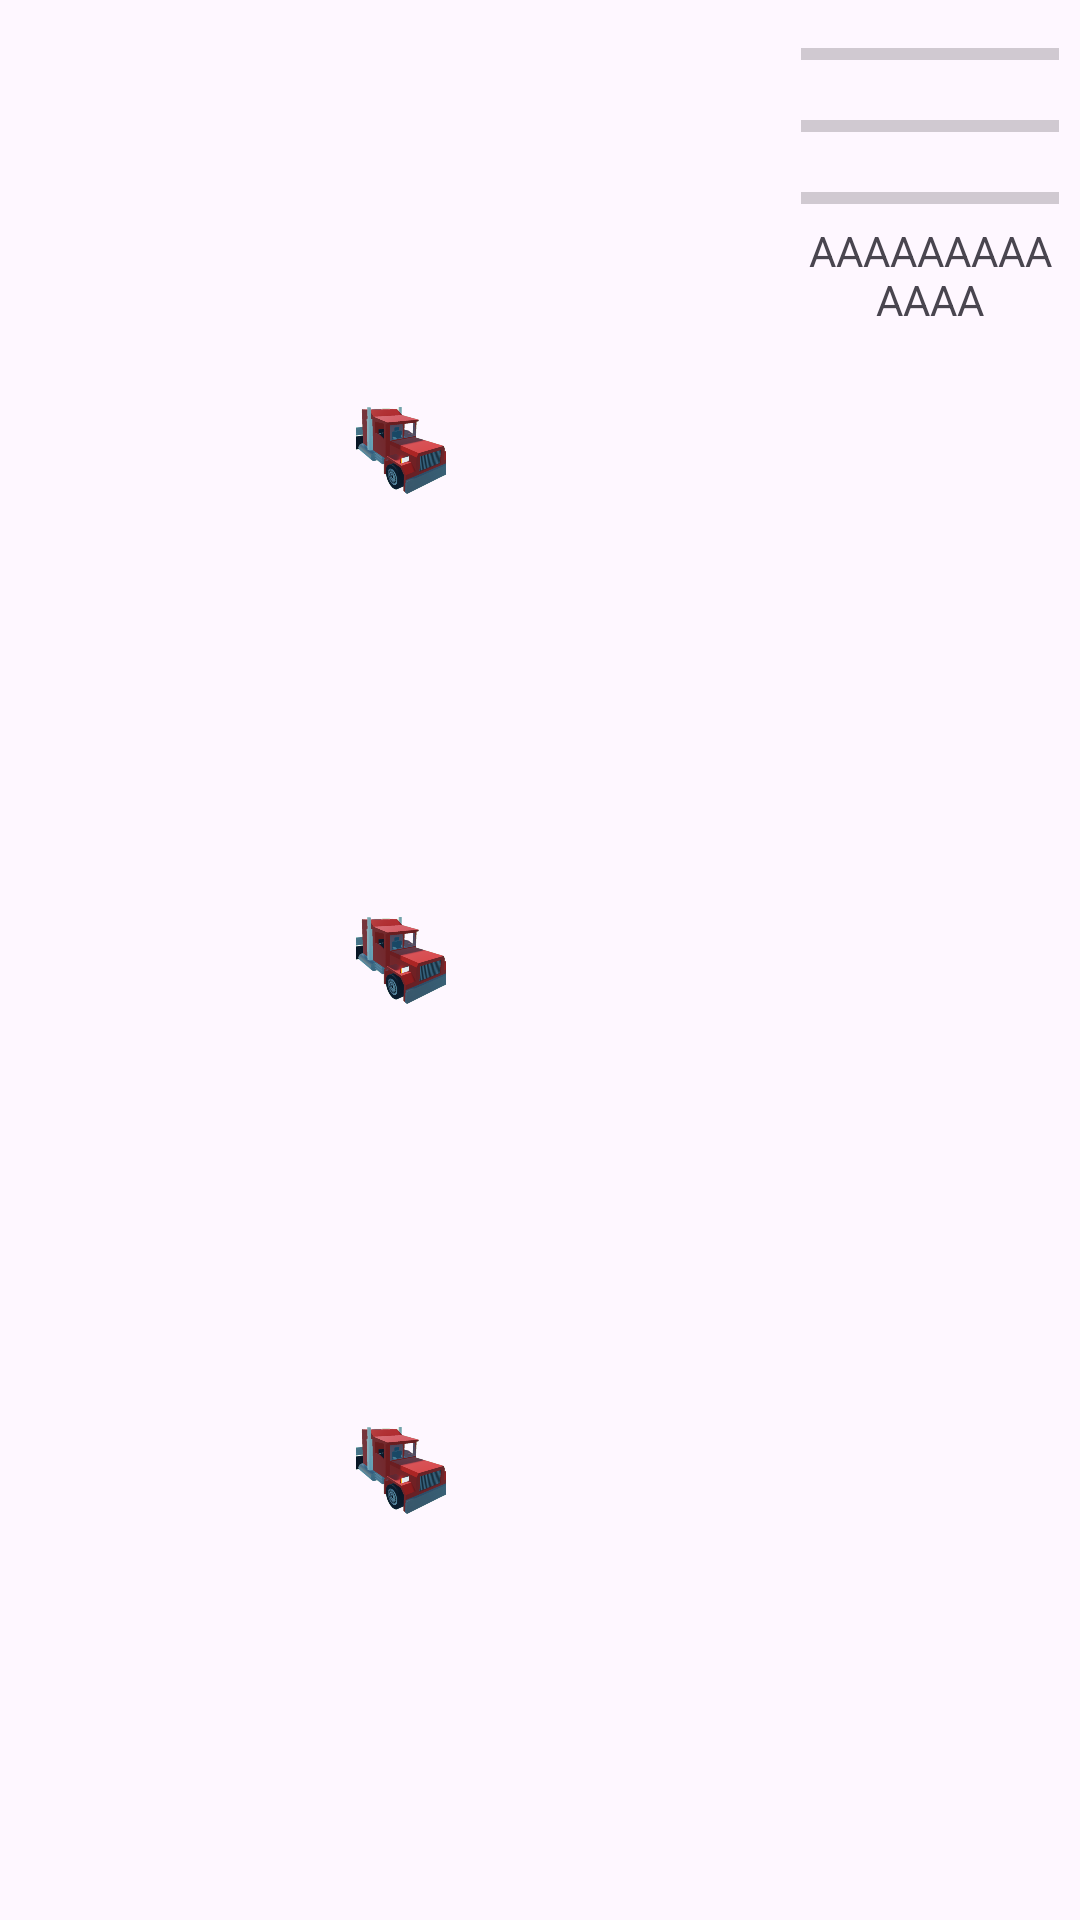

Point at icon controls on the screen. Image size 1080px x 1920px, points as (x,y).
truck: (401,450), (401,960), (401,1470)
